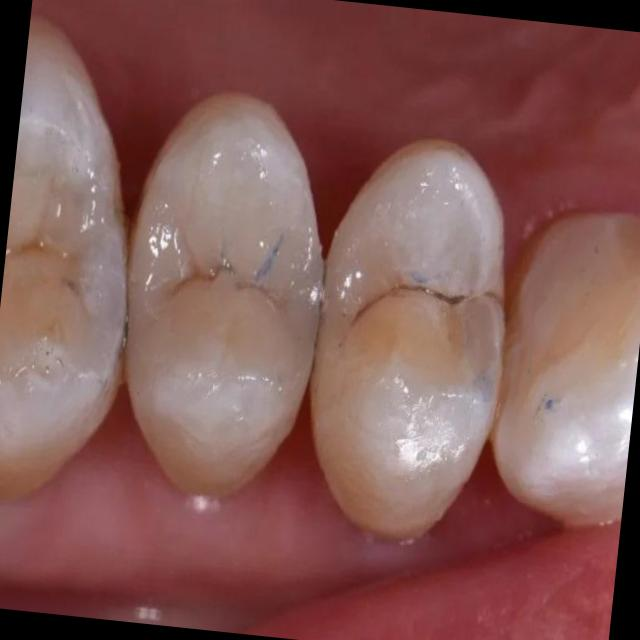Caries: (432, 293, 464, 304), (352, 304, 368, 323), (399, 285, 426, 291), (62, 278, 75, 289)
Tooth: (124, 89, 323, 500), (312, 137, 508, 540), (0, 17, 129, 502), (491, 210, 640, 523)
